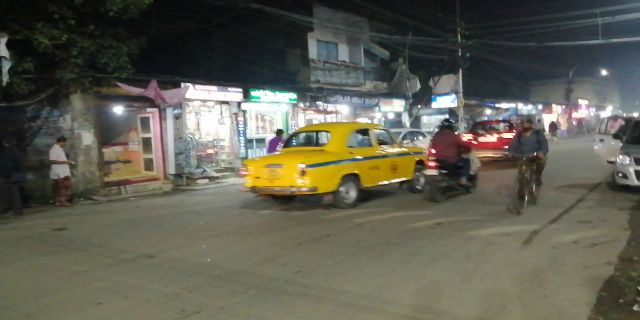Car: (242, 123, 427, 207), (468, 115, 520, 165)
Cycle: (513, 117, 546, 213)
Motorbike: (424, 119, 477, 200)
